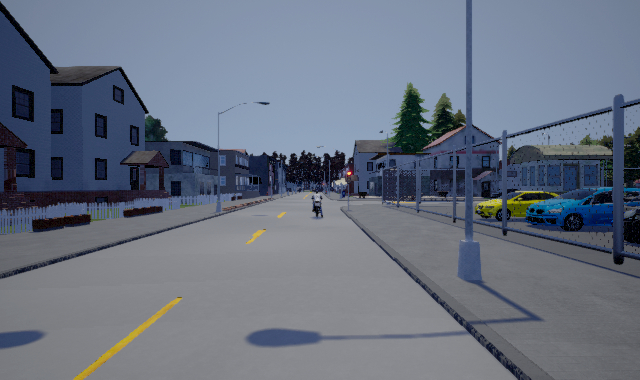motobike: (310, 191, 325, 218)
traffic_light: (346, 170, 352, 182)
vehicle: (507, 187, 613, 231), (475, 191, 562, 220)
